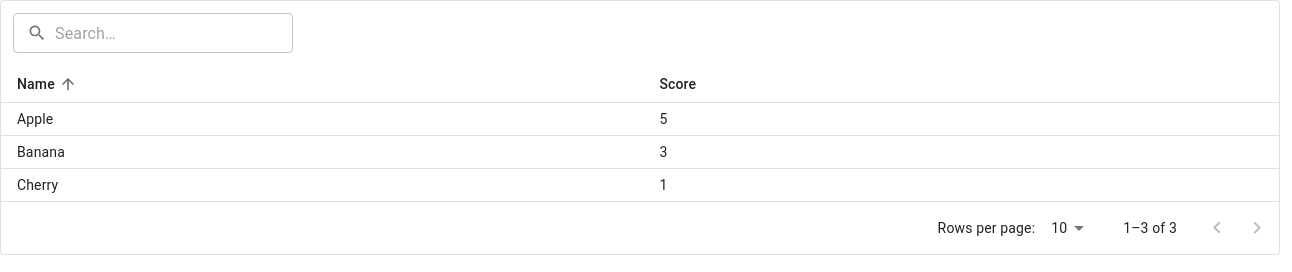
Scenario: DataTable › filters rows via the search box
In the field with placeholder "Search…": (174,33) x1=55 y1=13 x2=293 y2=53, type "cherry"
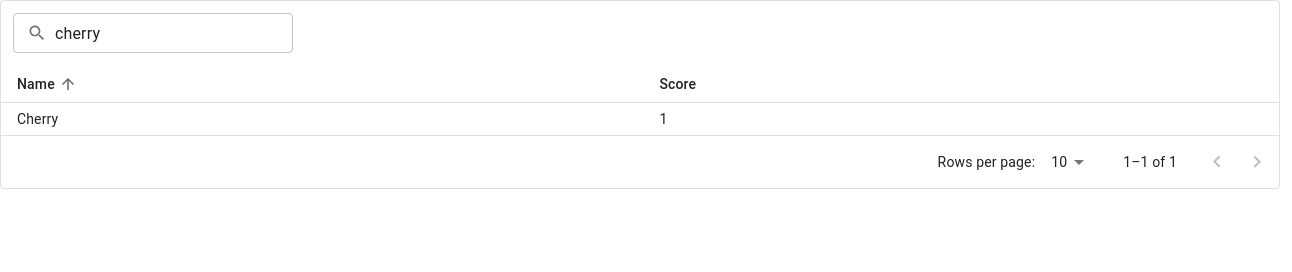
Expected: the text "Cherry" is shown, x1=1 y1=103 x2=643 y2=136
Expected: the text "Banana" is gone
